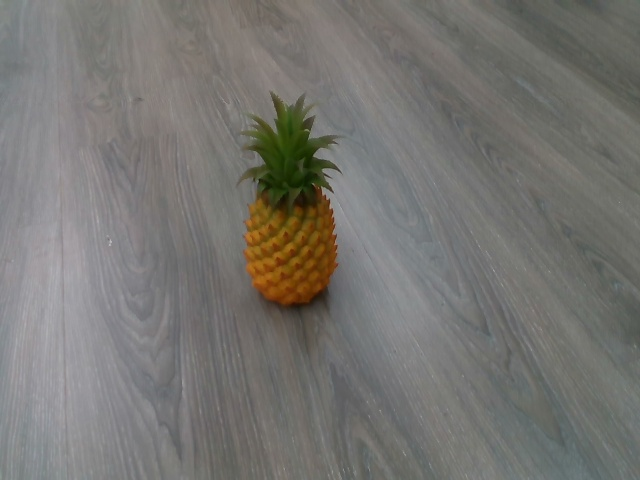pineapple: (231, 87, 350, 313)
